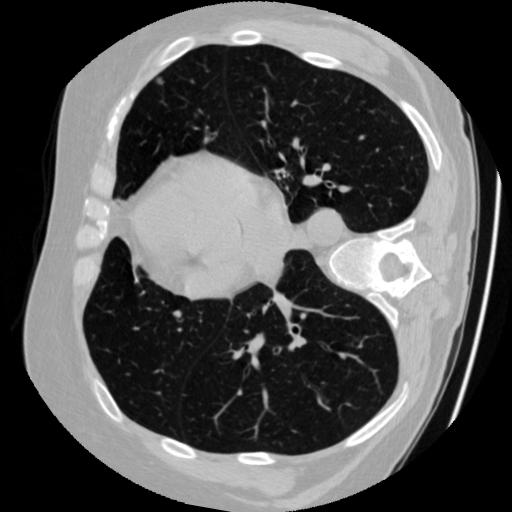nodule: (153, 76, 166, 89)
